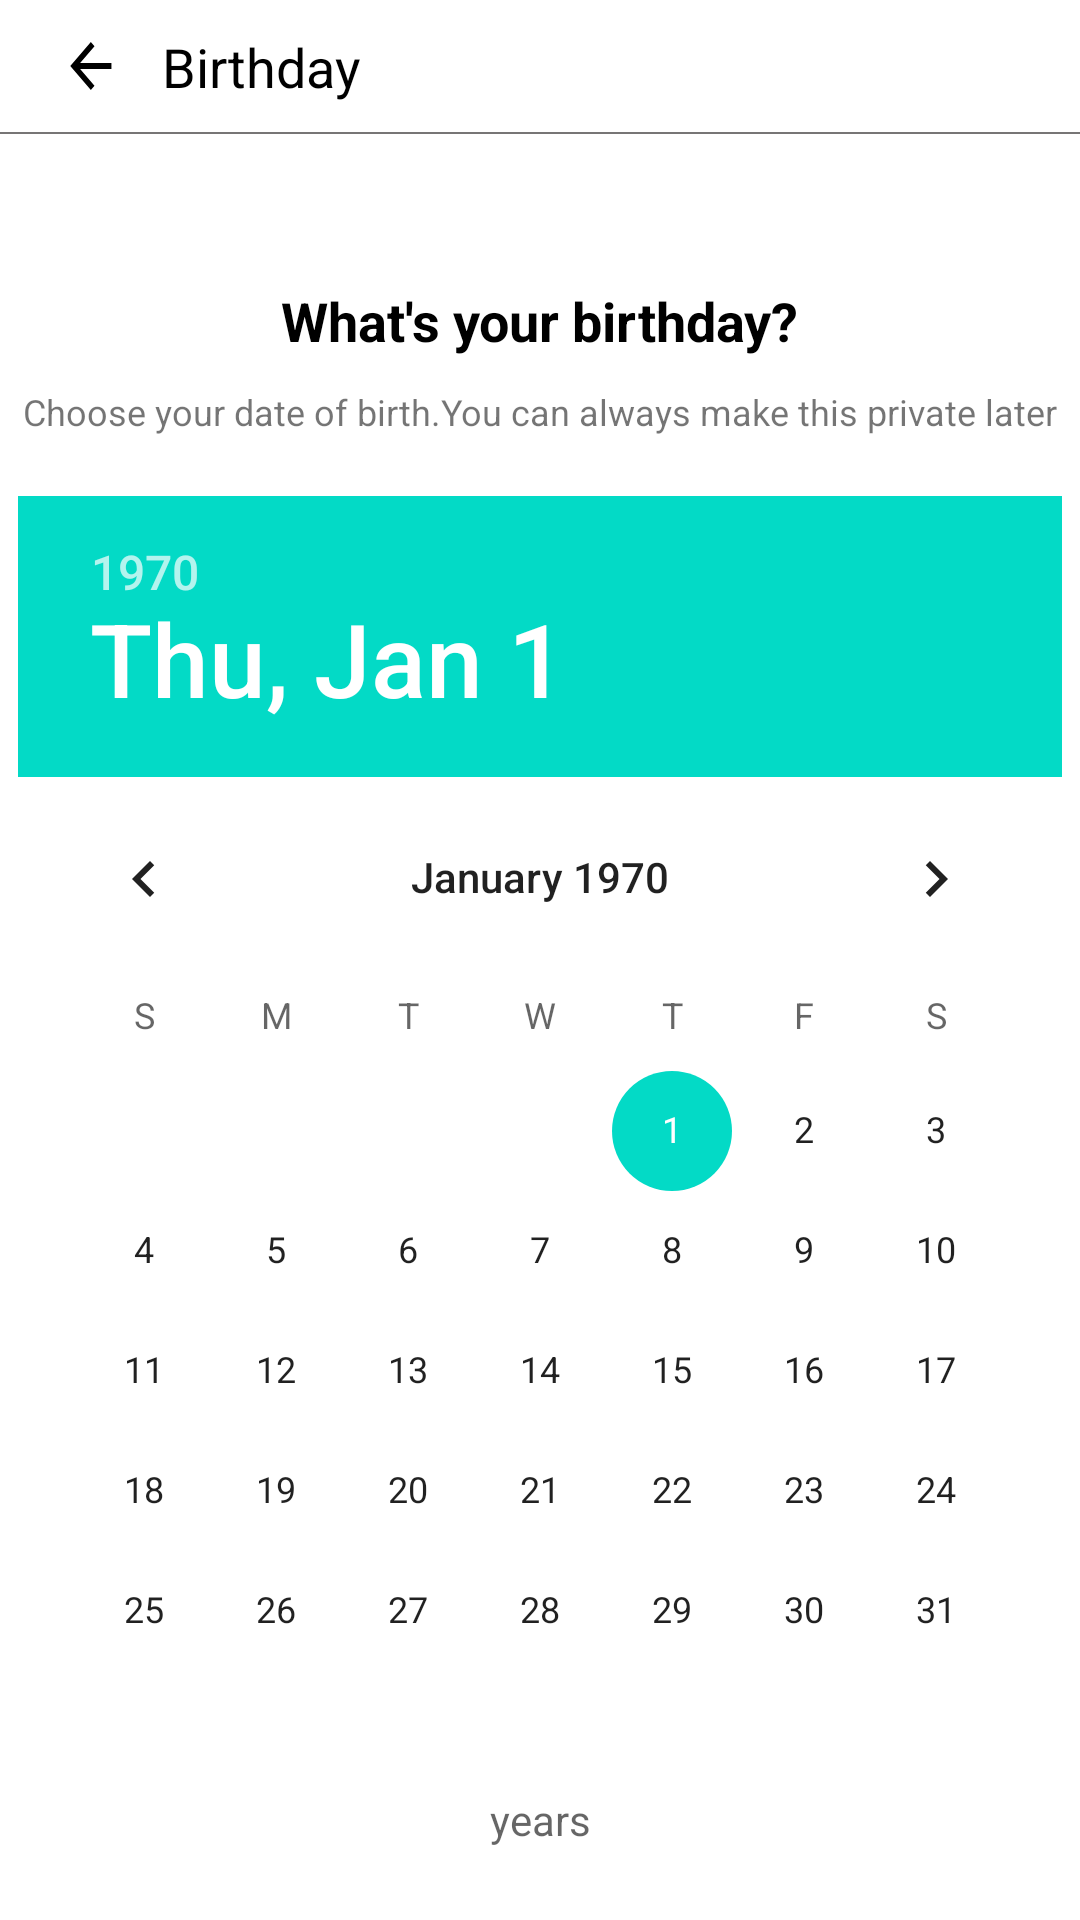

Named icons in this screenshot (1080w x 1920h) and their centers, (x=x, y=y):
arrow back: (x=91, y=66)
